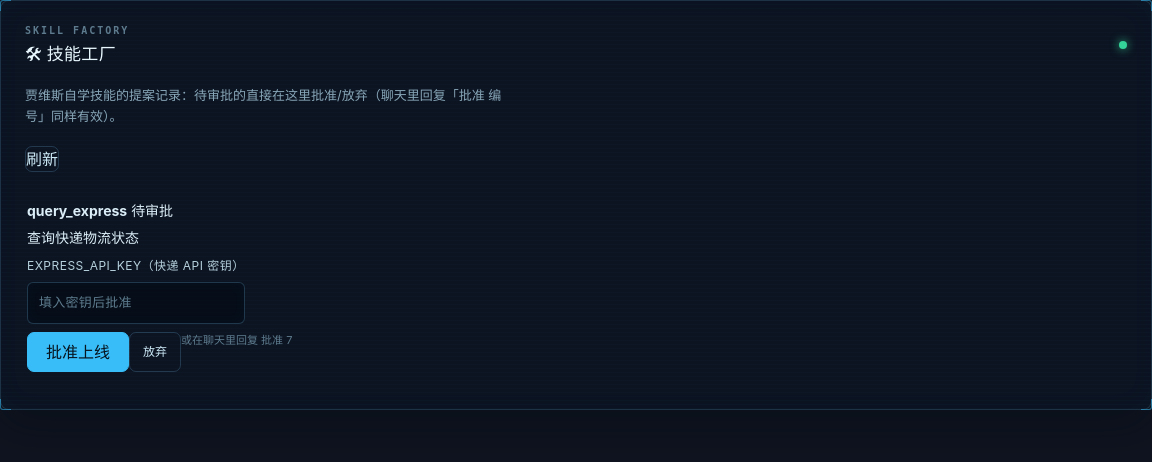
it: SkillsSection 审批卡 › 缺 key 返回 missing_keys：红字提示且不刷新列表
Expected: the text "query_express" is shown, [27,202,127,219]
Click the button "批准上线": (78,352) [27,332,129,372]
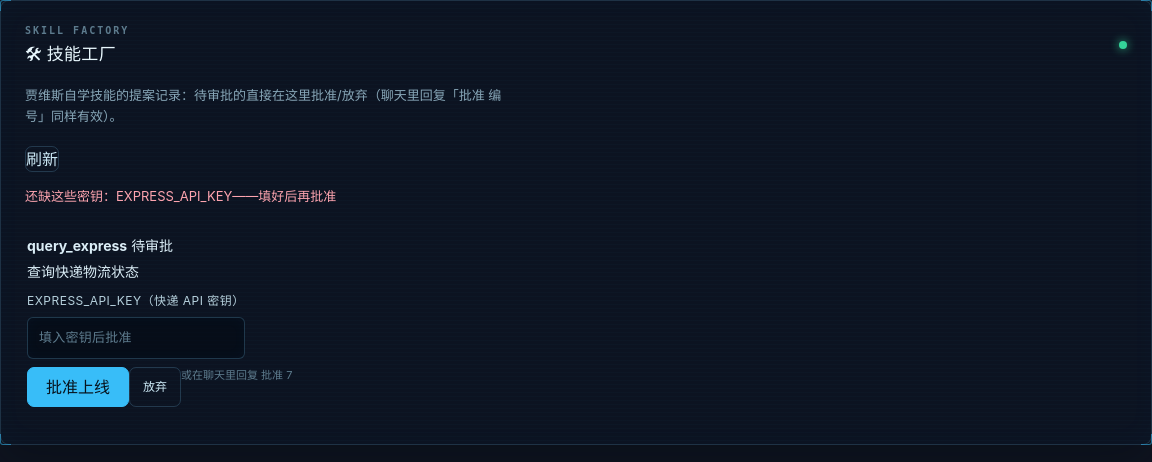
Expected: the text "待审批" is shown, [131,237,173,254]
Now the text "还缺这些密钥：EXPRESS_API_KEY——填好后再批准" is shown, box [25,188,336,204]
